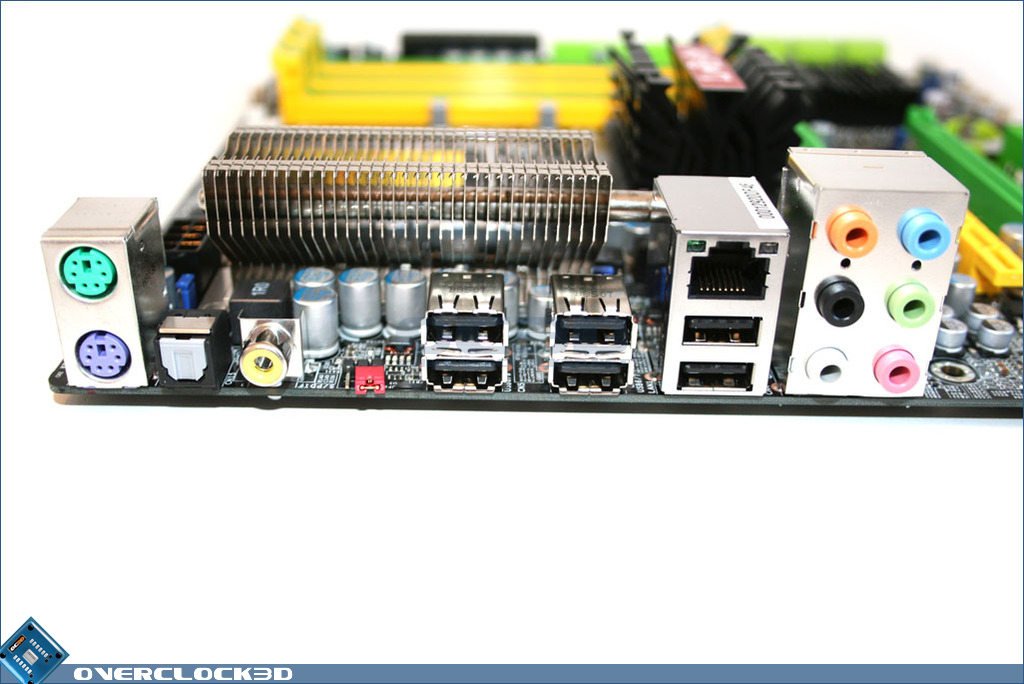Audio: (826, 201, 879, 260), (894, 205, 950, 260), (798, 346, 851, 395), (871, 346, 925, 392), (815, 279, 865, 327), (890, 281, 937, 332)
Ethernet: (681, 236, 779, 309)
USB: (674, 358, 762, 393), (676, 314, 766, 347)
